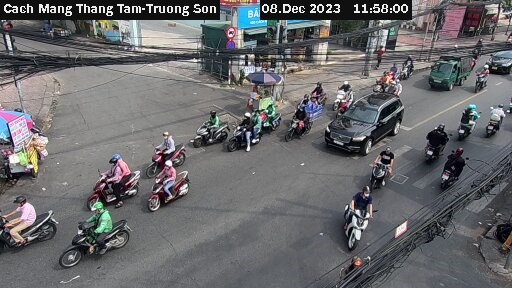car: (326, 89, 412, 150), (488, 46, 512, 71)
motorbike: (63, 209, 134, 266), (1, 191, 58, 260), (89, 151, 138, 202), (345, 193, 383, 249), (144, 164, 194, 206), (362, 147, 401, 192), (223, 108, 263, 150), (145, 133, 189, 170), (416, 122, 453, 163), (436, 150, 472, 192), (286, 104, 321, 142), (186, 110, 227, 141), (449, 100, 480, 140), (485, 97, 512, 137), (395, 55, 424, 83), (471, 65, 498, 93), (325, 81, 353, 104), (303, 82, 328, 102), (369, 72, 393, 92)
truck: (428, 50, 478, 93)
